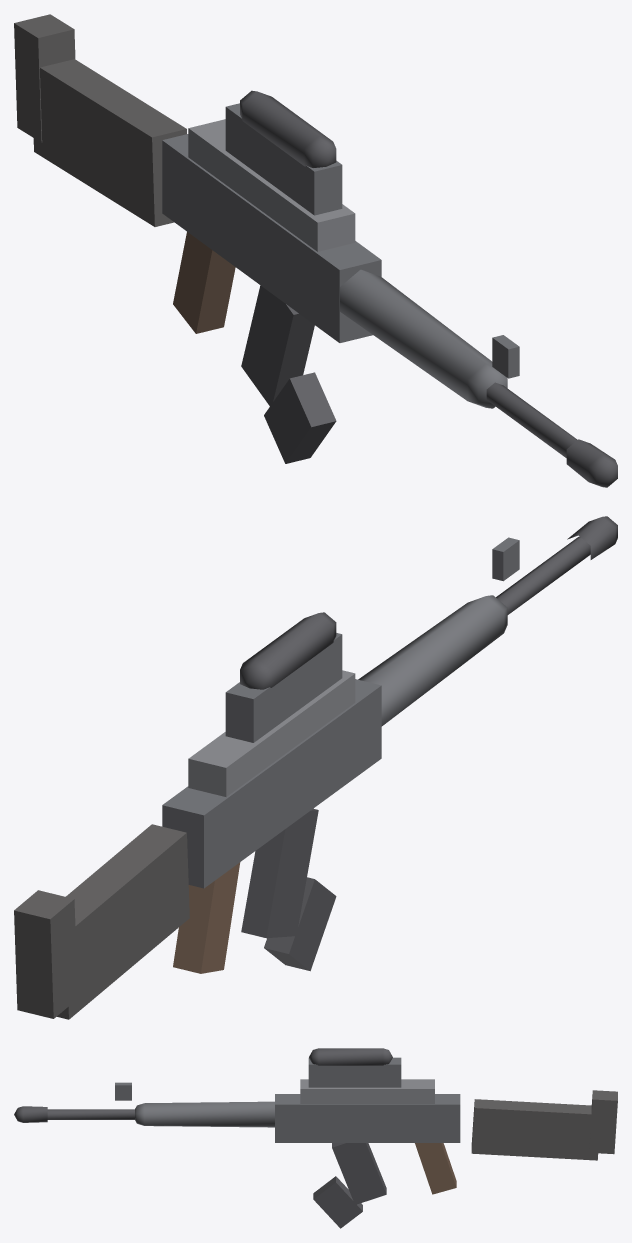
Rendered from rifle.glb.
3 renders of one model, top to bottom at view 1: azimuth 30°, elevation 25°; view 2: azimuth 150°, elevation 25°; view 3: azimuth 270°, elevation 25°, orthographic. The views are drawn at different scales.
Visible parts, largest first — view 1: weapon_body; view 2: weapon_body; view 3: weapon_body.
Part boxes in pixels (x1,y1,x2,y2): weapon_body: (14, 14, 617, 487); weapon_body: (14, 516, 617, 1019); weapon_body: (14, 1048, 617, 1228).
Bounding box in the file's own units: 0.09 × 0.6972 × 2.15.
